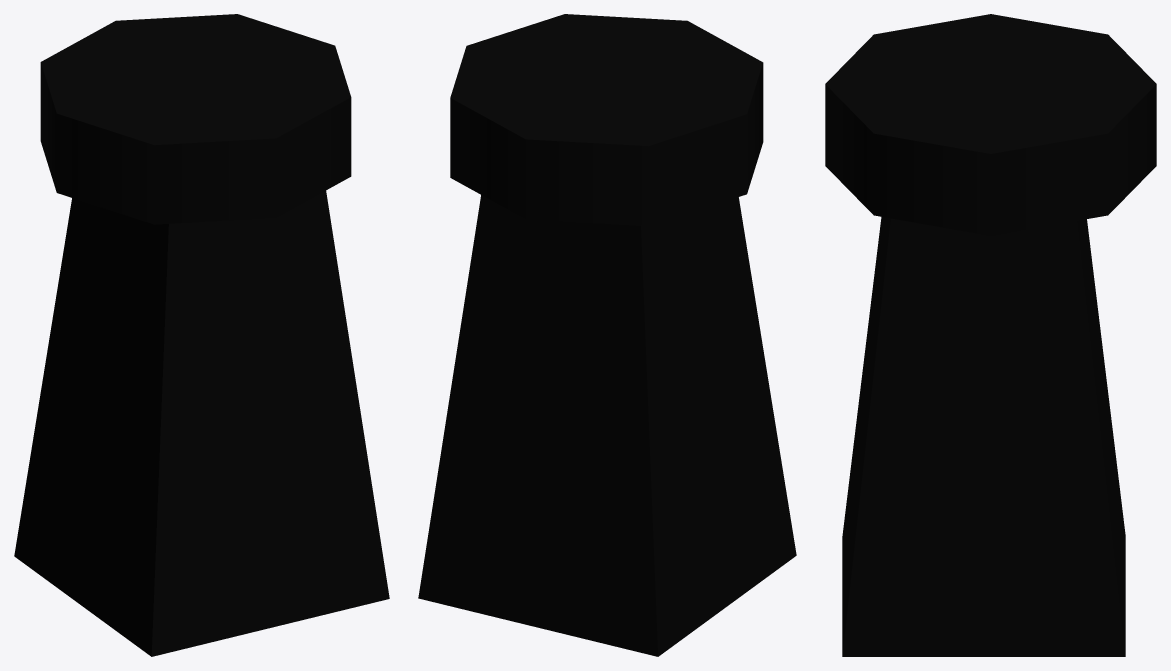
Rendered from KitchenStool.fbx.
3 views of the same model, side by side, from view 1: azimuth 30°, elevation 25°; view 2: azimuth 150°, elevation 25°; view 3: azimuth 270°, elevation 25° (orthographic). The views are drawn at different scales.
Visible parts, largest first — view 1: node_id6, node_id9; view 2: node_id6, node_id9; view 3: node_id6, node_id9.
Part boxes in pixels (x1=…): node_id6: x1=14, y1=62, x2=389, y2=656; node_id9: x1=41, y1=14, x2=350, y2=145; node_id6: x1=418, y1=63, x2=796, y2=656; node_id9: x1=450, y1=14, x2=762, y2=146; node_id6: x1=825, y1=84, x2=1156, y2=656; node_id9: x1=825, y1=14, x2=1156, y2=153.
Bounding box in the file's own units: 0.3006 × 0.512 × 0.3006.
2 materials, 2 textured.
